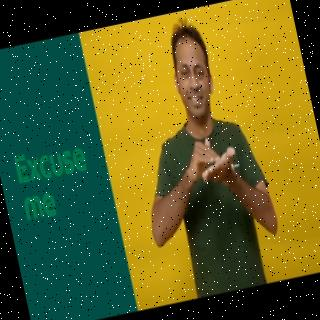ExcuseMe: (110, 12, 290, 303)
